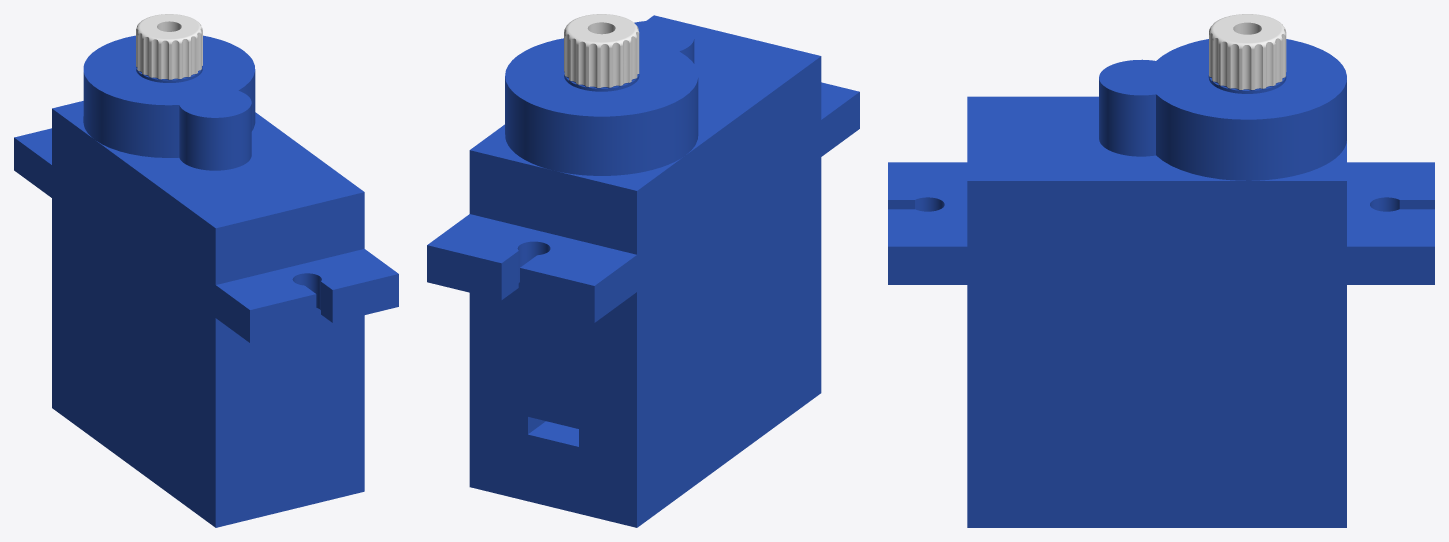
Rendered from sg90_micro_servo.glb.
3 views of the same model, side by side, from view 1: azimuth 30°, elevation 25°; view 2: azimuth 150°, elevation 25°; view 3: azimuth 270°, elevation 25° (orthographic). The views are drawn at different scales.
Parts seen in each view (by area): view 1: body, shaft; view 2: body, shaft; view 3: body, shaft.
Boxes of the visible parts, left/top/right/bottom form: body: left=14, top=35, right=398, bottom=527; shaft: left=136, top=14, right=202, bottom=79; body: left=427, top=15, right=859, bottom=527; shaft: left=564, top=14, right=639, bottom=87; body: left=888, top=39, right=1434, bottom=527; shaft: left=1209, top=14, right=1286, bottom=89.
Size of the model in its own units: 0.0118 by 0.0299 by 0.0324.
